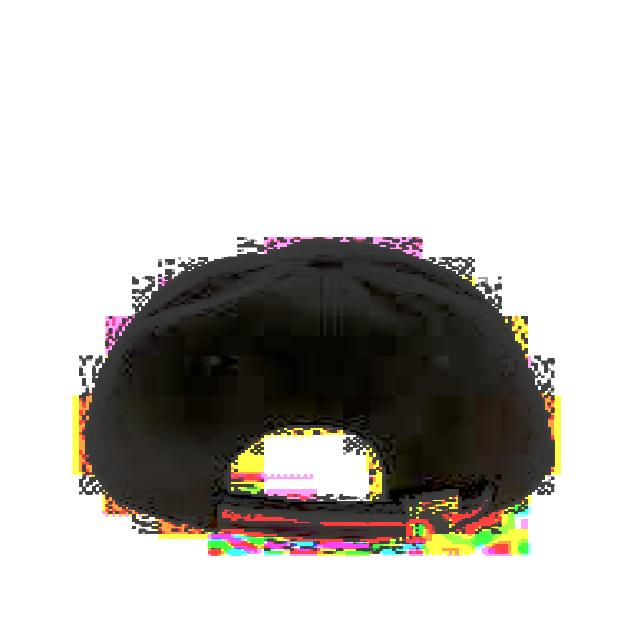TOPI: (79, 232, 554, 539)
